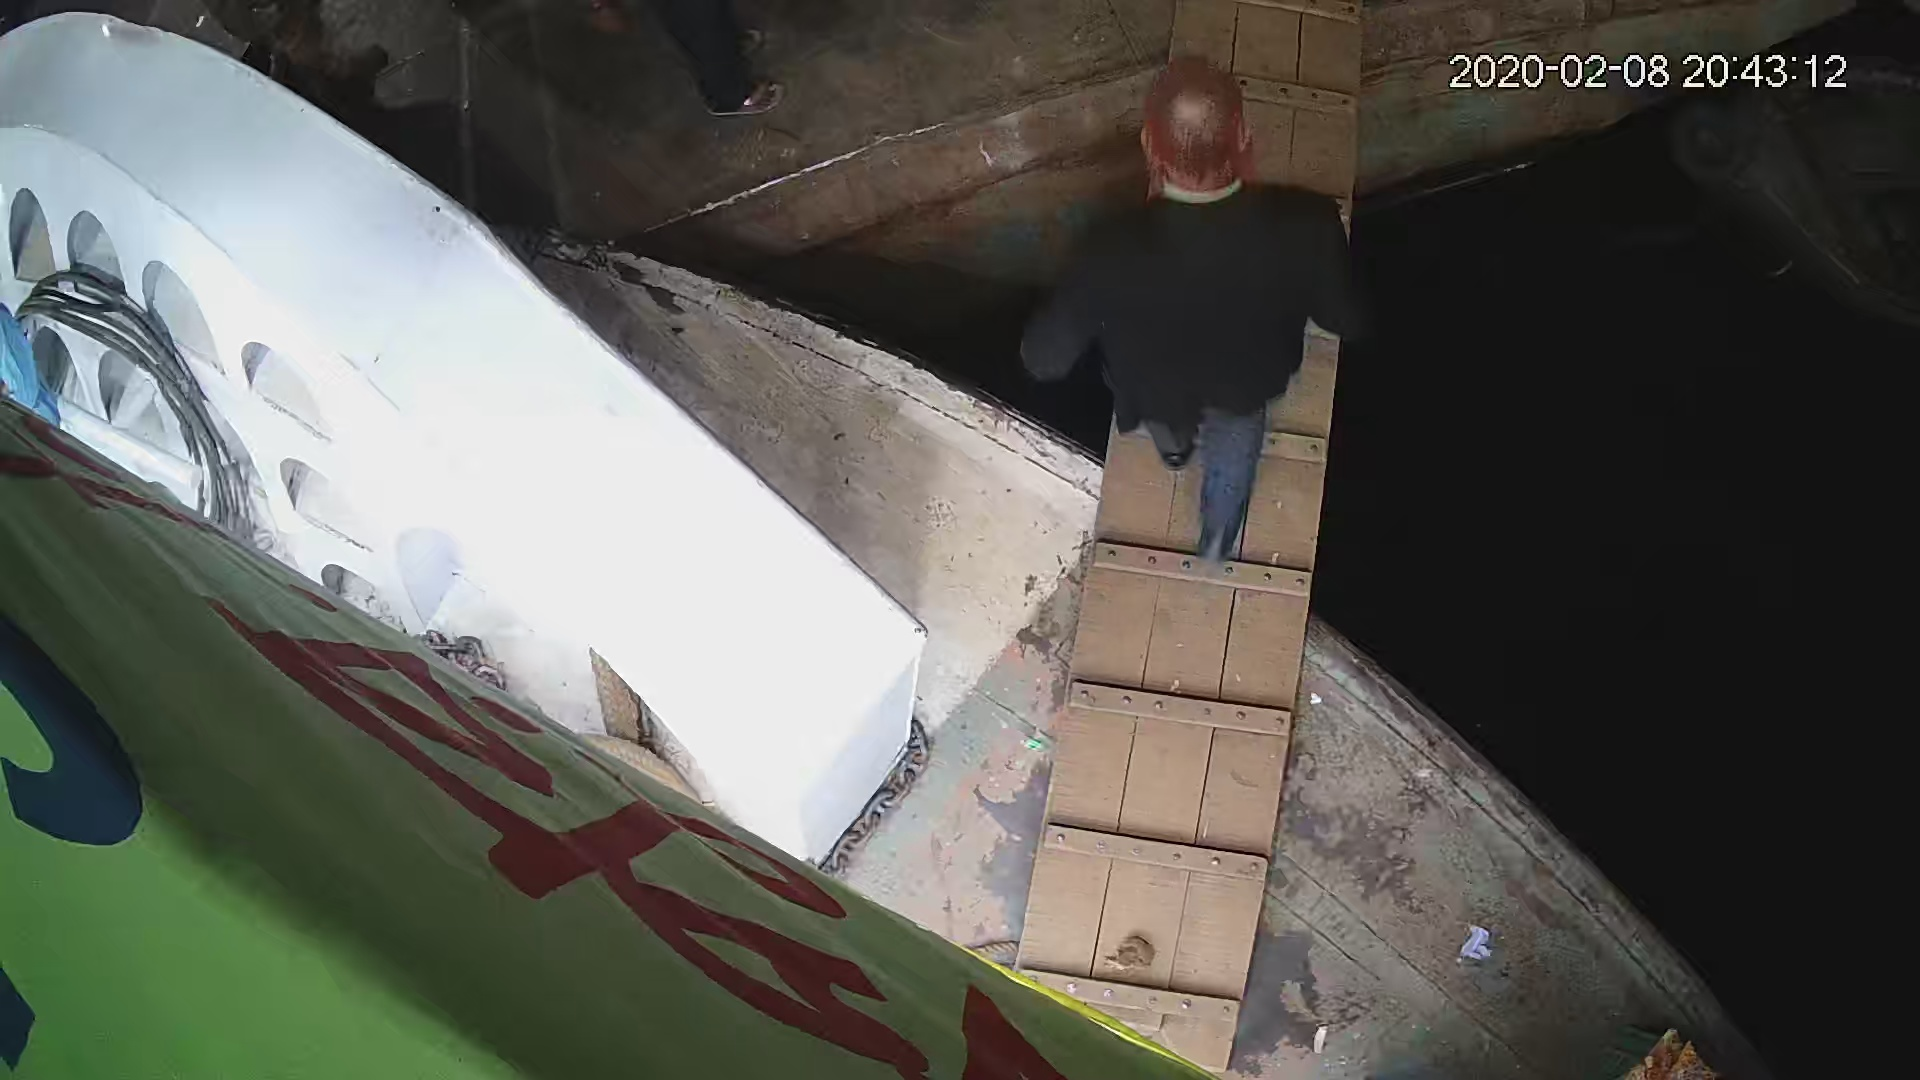person: (1023, 51, 1371, 570)
